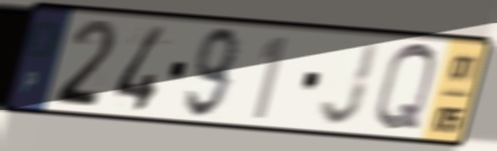1: (251, 33, 291, 122)
2: (54, 17, 121, 112)
4: (110, 22, 168, 115)
9: (183, 24, 245, 123)
J: (316, 39, 383, 129)
Q: (371, 40, 439, 136)
